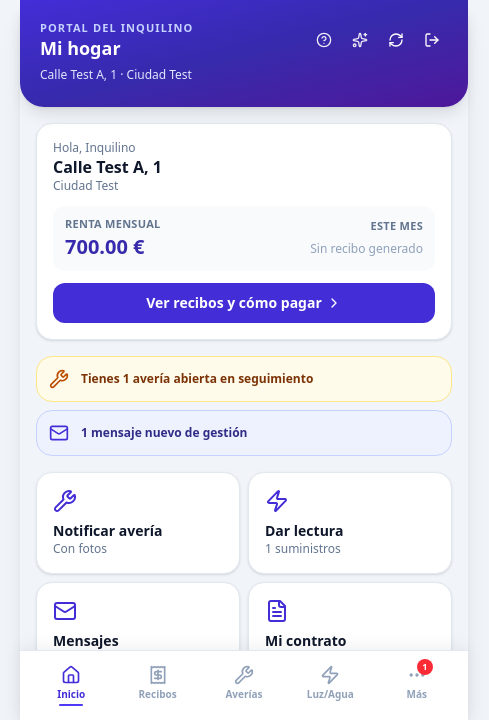
Test case: E · Portal · pantallas y saneado de información › Contrato: muestra renta, IBAN de pago y firmas; oculta DNI/notas privadas del arrendador
The image size is (489, 720).
Click the button "Más 1" at x=417, y=686, box x1=374 y1=659 x2=460 y2=712
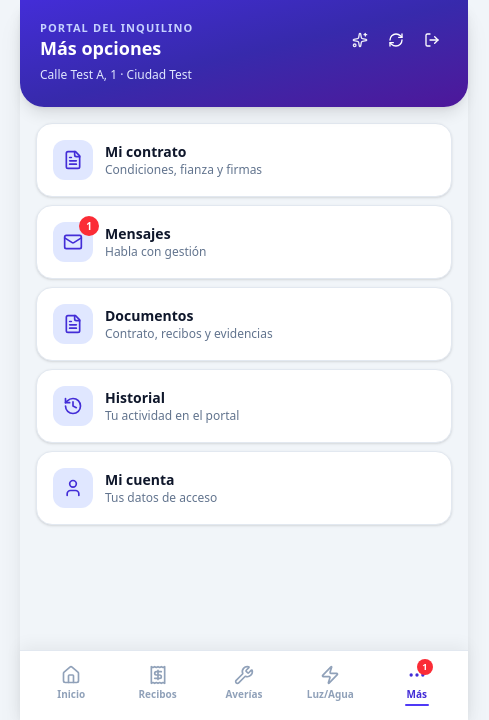
Click the button "Mi contrato Condiciones, fianza y firmas" at x=244, y=160, box x1=36 y1=123 x2=452 y2=197
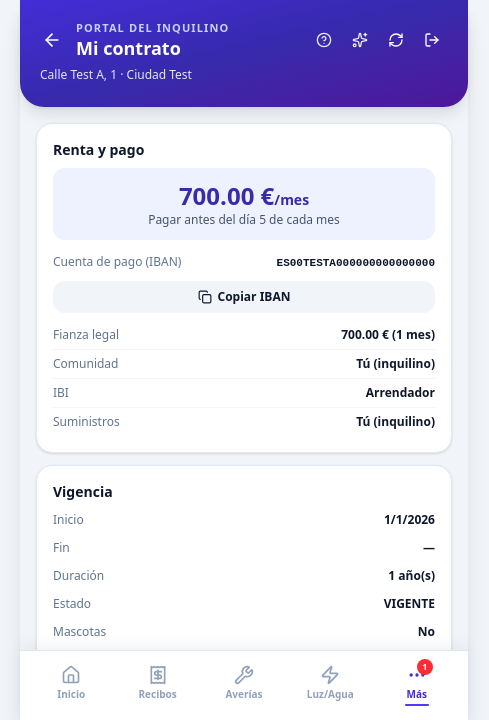
Result: the text "700.00" is shown at x1=179 y1=179 x2=254 y2=212
Result: the text "ES00TESTA000000000000000" is shown at x1=277 y1=257 x2=435 y2=269
